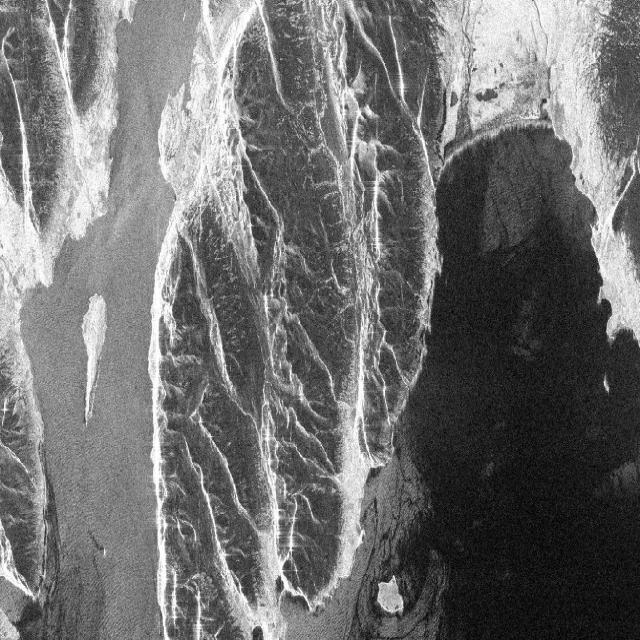look-alike: (437, 185, 633, 635)
oil-spill: (85, 528, 104, 557)
ship: (100, 546, 108, 562)
